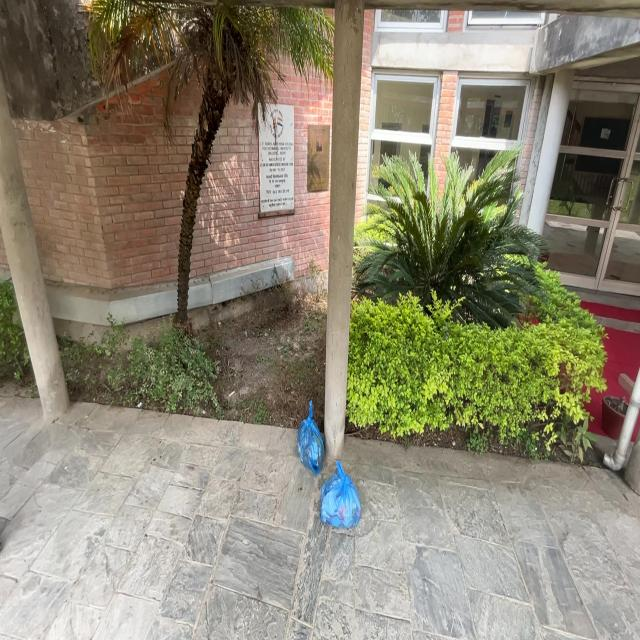garbage: (290, 387, 334, 480), (318, 450, 368, 531)
